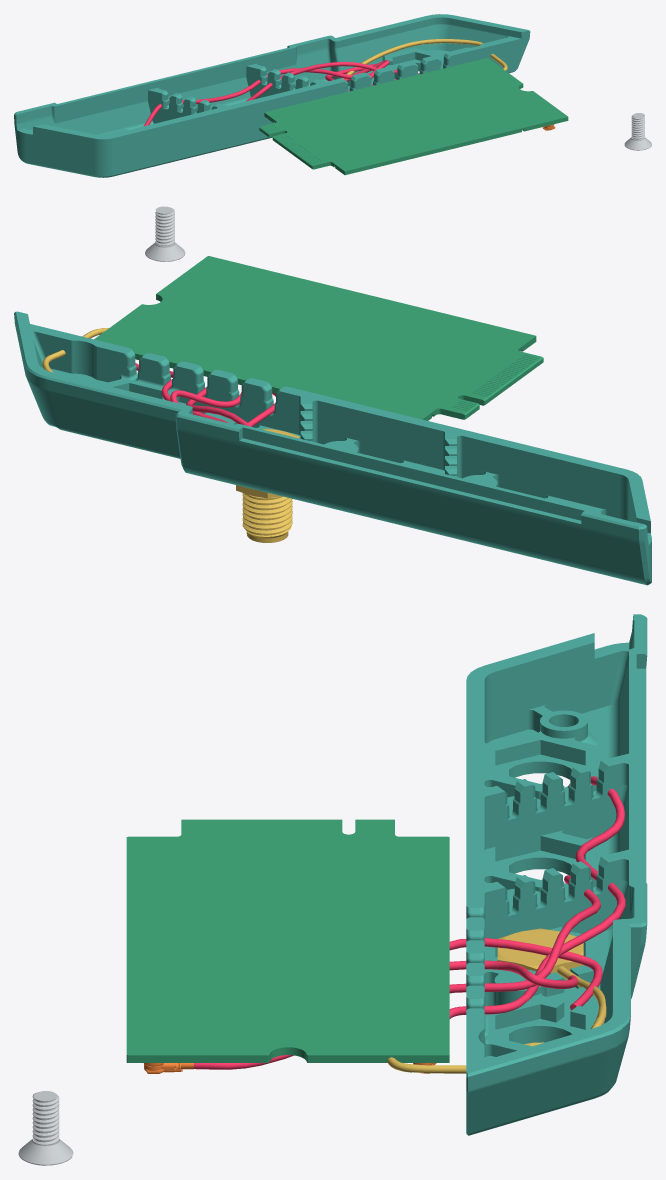
Rendered from upstream.glb.
The picture shows the model from 3 angles, top to bottom: view 1: azimuth 30°, elevation 25°; view 2: azimuth 150°, elevation 25°; view 3: azimuth 270°, elevation 25°; orthographic projection. The views are drawn at different scales.
Parts seen in each view (by area): view 1: rail, m2board, wire0, sma, screw, wire3; view 2: rail, m2board, sma, screw, wire2; view 3: m2board, rail, sma, wire0, screw, wire3, wire2, wire1.
Boxes of the visible parts, left/top/right/bottom form: rail: left=14, top=14, right=530, bottom=177; m2board: left=259, top=58, right=568, bottom=175; wire0: left=144, top=68, right=419, bottom=126; sma: left=309, top=39, right=507, bottom=85; screw: left=624, top=113, right=651, bottom=150; wire3: left=245, top=62, right=396, bottom=101; rail: left=14, top=311, right=651, bottom=585; m2board: left=94, top=256, right=543, bottom=420; sma: left=42, top=328, right=299, bottom=542; screw: left=145, top=206, right=185, bottom=261; wire2: left=170, top=390, right=241, bottom=407; m2board: left=126, top=819, right=449, bottom=1062; rail: left=466, top=614, right=647, bottom=1135; sma: left=387, top=928, right=606, bottom=1073; wire0: left=449, top=776, right=625, bottom=1018; screw: left=18, top=1091, right=73, bottom=1165; wire3: left=449, top=875, right=600, bottom=993; wire2: left=194, top=960, right=577, bottom=1069; wire1: left=449, top=938, right=602, bottom=1010.
Size of the model in its own units: 0.1045 by 0.0193 by 0.0584.
